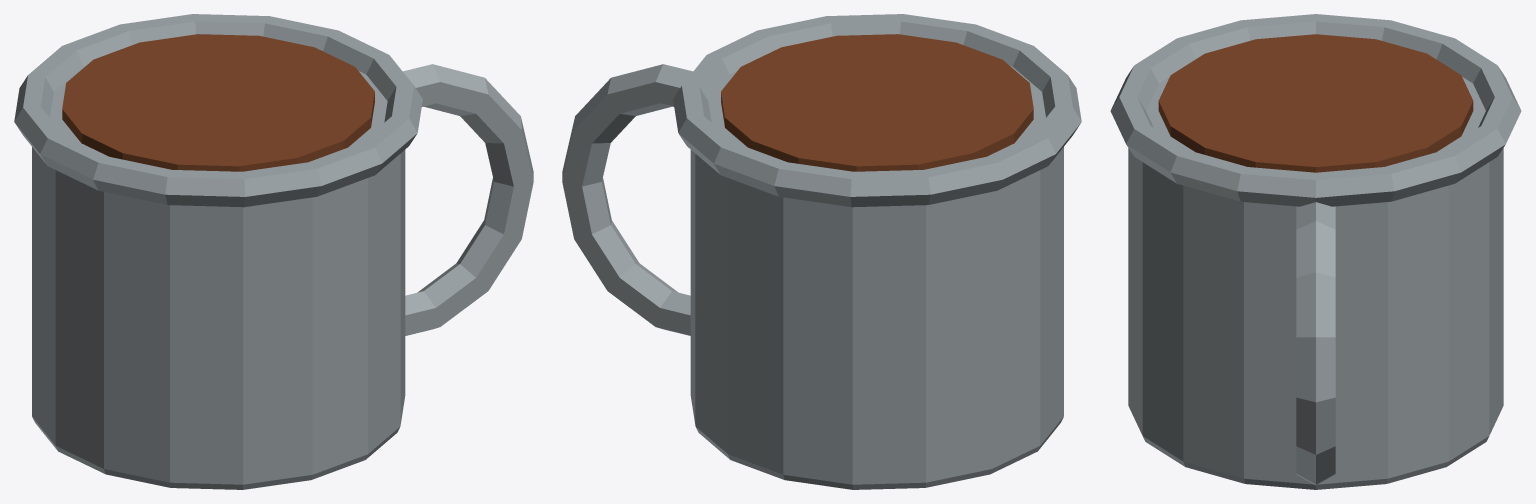
File: item_ch1_breakfast_tea.glb
3 views of the same model, side by side, from view 1: azimuth 30°, elevation 25°; view 2: azimuth 150°, elevation 25°; view 3: azimuth 270°, elevation 25° (orthographic).
Visible parts, largest first — view 1: Tin cup, Tea surface, Rolled rim, Cup handle; view 2: Tin cup, Tea surface, Rolled rim, Cup handle; view 3: Tin cup, Tea surface, Rolled rim, Cup handle.
Boxes of the visible parts, x1=… form: Tin cup: x1=32, y1=66, x2=405, y2=489; Tea surface: x1=62, y1=34, x2=374, y2=171; Rolled rim: x1=14, y1=14, x2=422, y2=207; Cup handle: x1=403, y1=64, x2=533, y2=335; Tin cup: x1=690, y1=66, x2=1063, y2=489; Tea surface: x1=721, y1=34, x2=1033, y2=171; Rolled rim: x1=673, y1=14, x2=1081, y2=207; Cup handle: x1=562, y1=64, x2=692, y2=335; Tin cup: x1=1128, y1=77, x2=1503, y2=489; Tea surface: x1=1158, y1=34, x2=1473, y2=172; Rolled rim: x1=1110, y1=14, x2=1521, y2=206; Cup handle: x1=1296, y1=202, x2=1335, y2=485.
Size of the model in its own units: 0.112 by 0.069 by 0.081.
